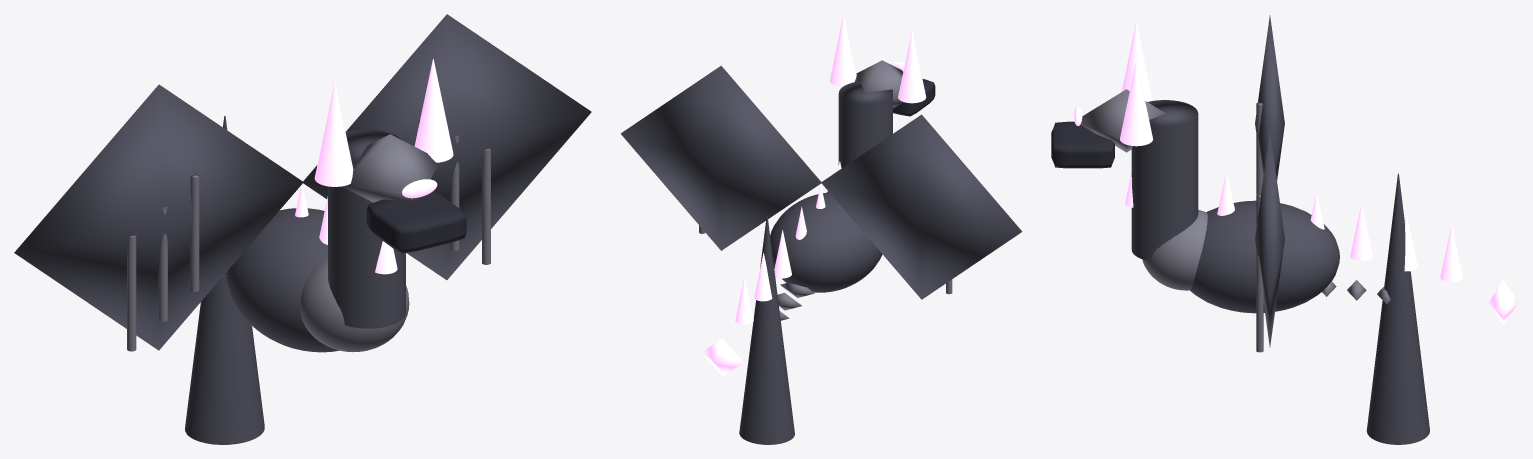
The model's file is black-dragon.glb.
3 views of the same model, side by side, from view 1: azimuth 30°, elevation 25°; view 2: azimuth 150°, elevation 25°; view 3: azimuth 270°, elevation 25° (orthographic). The views are drawn at different scales.
Parts seen in each view (by area): view 1: wing-1, wing1, tail, body, neck, jaw, head, chest, horn-1, horn1, WingRib-1_2, WingRib-1_0 (+2 smaller); view 2: wing-1, wing1, body, tail, neck, head, horn-1, horn1, tailSpade, jaw, DorsalBlade7, DorsalBlade5 (+1 smaller); view 3: body, tail, neck, wing1, chest, wing-1, jaw, head, horn1, horn-1, DorsalBlade7, DorsalBlade5 (+4 smaller).
Part boxes in pixels (x1=…): wing-1: x1=14, y1=84, x2=302, y2=350; wing1: x1=303, y1=14, x2=591, y2=279; tail: x1=185, y1=116, x2=264, y2=444; body: x1=226, y1=208, x2=339, y2=352; neck: x1=328, y1=129, x2=405, y2=328; jaw: x1=366, y1=191, x2=466, y2=253; head: x1=342, y1=134, x2=439, y2=202; chest: x1=300, y1=259, x2=409, y2=352; horn-1: x1=314, y1=83, x2=353, y2=186; horn1: x1=414, y1=58, x2=453, y2=162; WingRib-1_2: x1=127, y1=235, x2=136, y2=351; WingRib-1_0: x1=190, y1=174, x2=199, y2=291; wing-1: x1=821, y1=114, x2=1022, y2=299; wing1: x1=620, y1=65, x2=821, y2=250; body: x1=770, y1=192, x2=882, y2=292; tail: x1=739, y1=216, x2=794, y2=444; neck: x1=838, y1=81, x2=892, y2=168; head: x1=854, y1=60, x2=904, y2=108; horn-1: x1=898, y1=31, x2=926, y2=103; horn1: x1=829, y1=14, x2=856, y2=86; tailSpade: x1=701, y1=338, x2=743, y2=376; jaw: x1=893, y1=78, x2=935, y2=116; DorsalBlade7: x1=735, y1=275, x2=753, y2=324; DorsalBlade5: x1=774, y1=230, x2=791, y2=278; body: x1=1190, y1=200, x2=1339, y2=313; tail: x1=1366, y1=173, x2=1429, y2=444; neck: x1=1131, y1=100, x2=1198, y2=261; wing1: x1=1255, y1=131, x2=1284, y2=347; chest: x1=1142, y1=210, x2=1207, y2=290; wing-1: x1=1255, y1=15, x2=1284, y2=180; jaw: x1=1051, y1=121, x2=1114, y2=168; head: x1=1080, y1=89, x2=1165, y2=152; horn1: x1=1120, y1=60, x2=1152, y2=146; horn-1: x1=1121, y1=21, x2=1153, y2=101; DorsalBlade7: x1=1440, y1=224, x2=1463, y2=281; DorsalBlade5: x1=1350, y1=203, x2=1373, y2=260.
Size of the model in its own units: 3.29 by 2.58 by 2.8.
